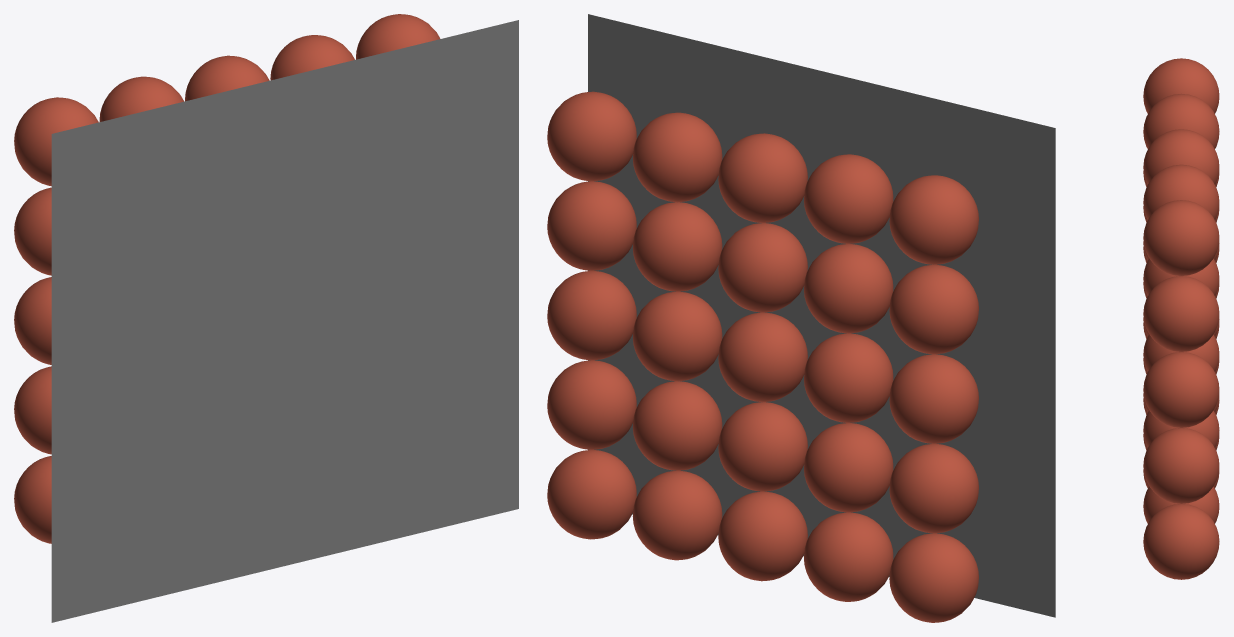
3 views of the same model, side by side, from view 1: azimuth 30°, elevation 25°; view 2: azimuth 150°, elevation 25°; view 3: azimuth 270°, elevation 25° (orthographic). The views are drawn at different scales.
Visible parts, largest first — view 1: Plane, Sphere; view 2: Sphere, Plane; view 3: Sphere.
Part boxes in pixels (bbox=[...]): Plane: bbox=[51, 20, 518, 622]; Sphere: bbox=[14, 14, 440, 543]; Sphere: bbox=[547, 91, 978, 622]; Plane: bbox=[588, 14, 1055, 617]; Sphere: bbox=[1143, 58, 1219, 579].
Bounding box in the file's own units: 6.02 × 1.77 × 6.02.
